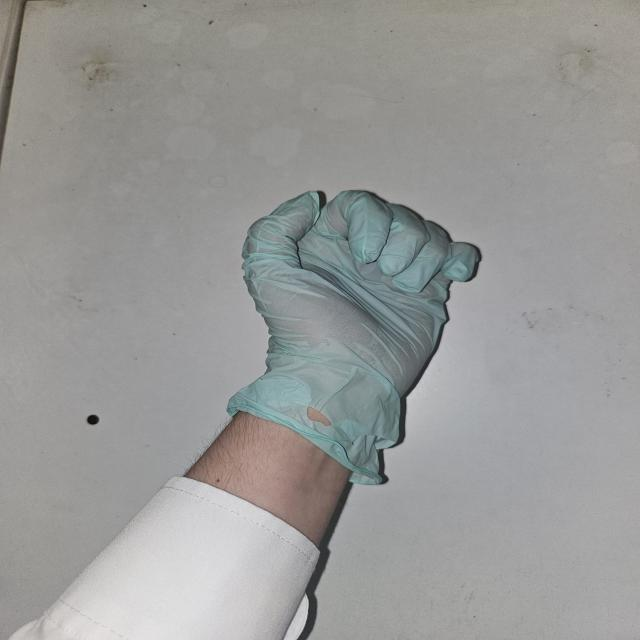gloves_damaged: (225, 187, 483, 484)
